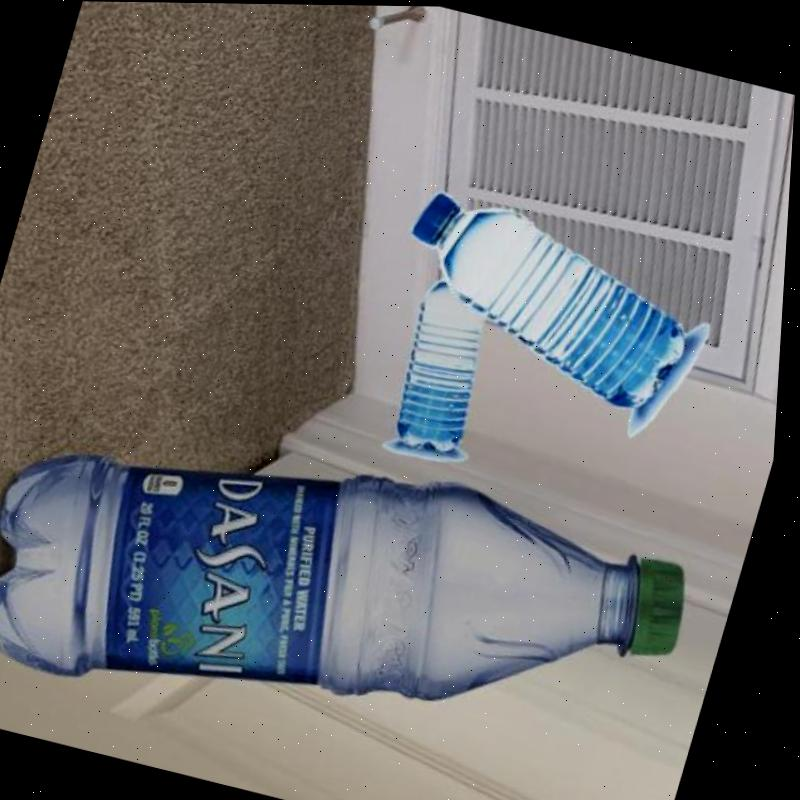botella: (0, 377, 718, 800), (381, 182, 722, 418), (380, 275, 509, 455)
